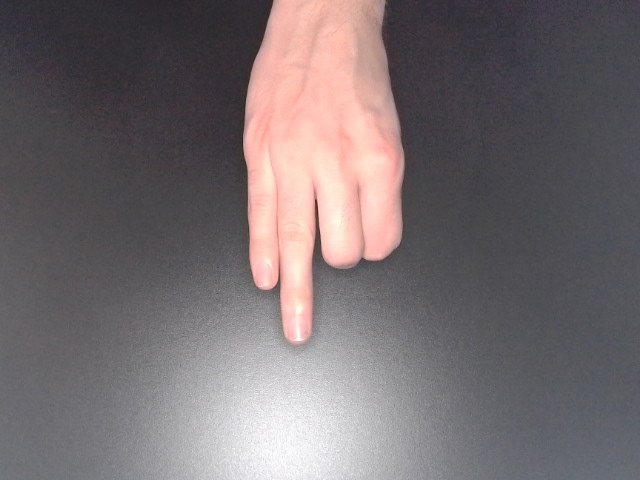n: (232, 1, 411, 350)
